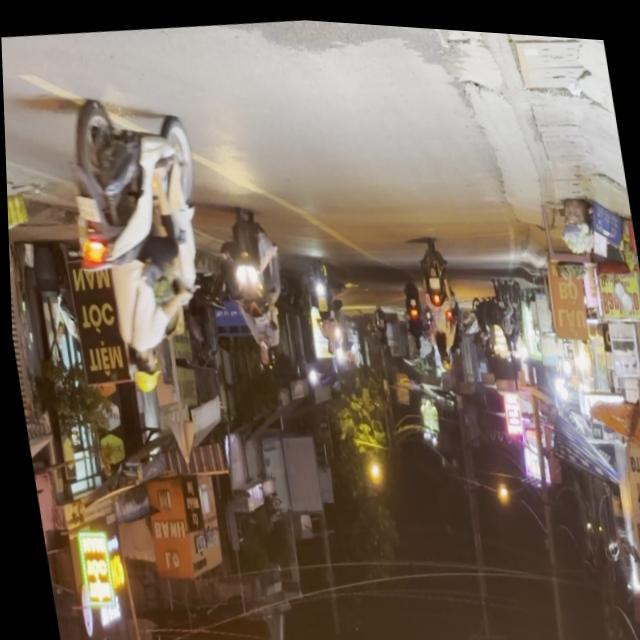helmet: (123, 345, 159, 396)
licenseplate: (51, 84, 229, 407), (213, 199, 295, 376)
nohelmet: (72, 194, 99, 225)
